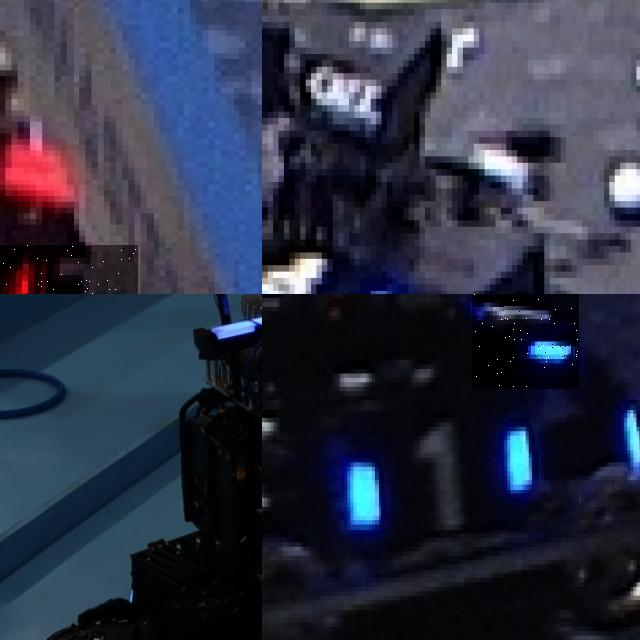B1: (338, 416, 538, 544), (471, 294, 579, 389)
B4: (262, 214, 389, 294)
R2: (0, 244, 137, 294)
